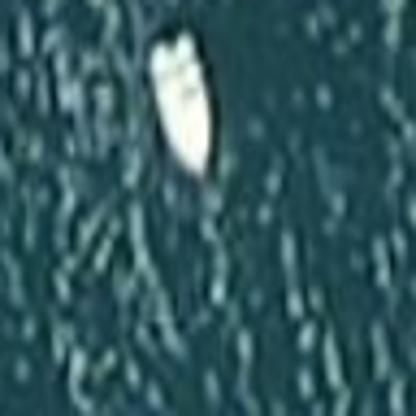ship: (139, 28, 223, 184)
